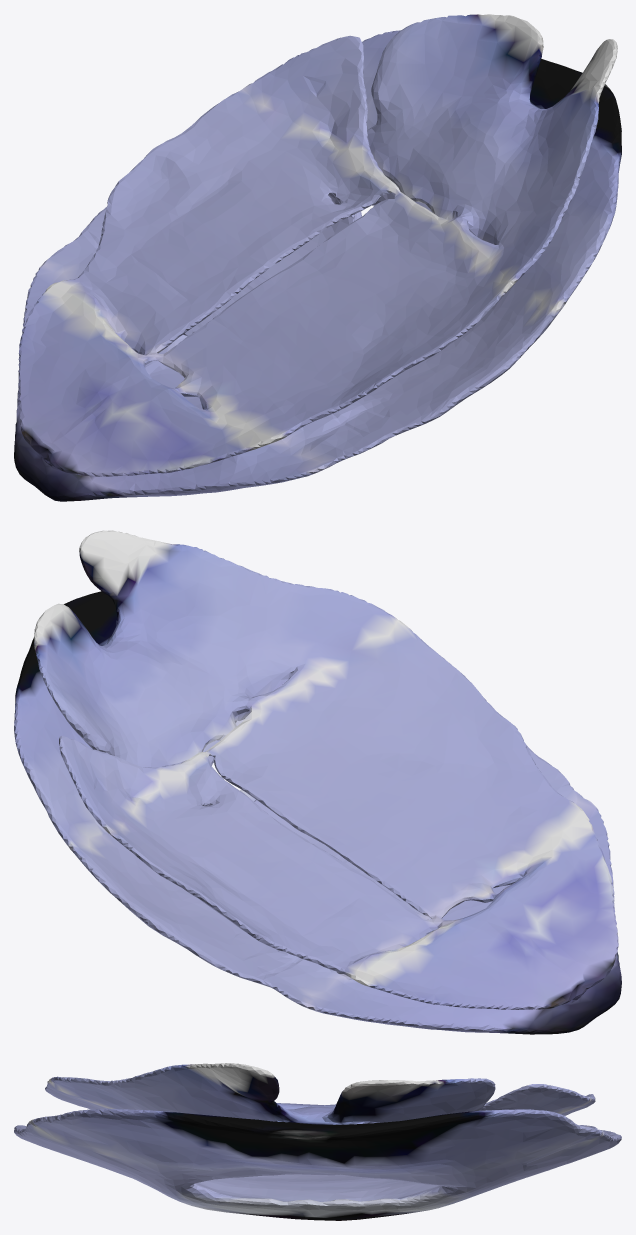
File: blue_crystal.glb
3 renders of one model, top to bottom at view 1: azimuth 30°, elevation 25°; view 2: azimuth 150°, elevation 25°; view 3: azimuth 270°, elevation 25°, orthographic. The views are drawn at different scales.
Visible parts, largest first — view 1: geometry_0; view 2: geometry_0; view 3: geometry_0.
Boxes of the visible parts, left/top/right/bottom form: geometry_0: left=14, top=14, right=621, bottom=501; geometry_0: left=14, top=530, right=621, bottom=1034; geometry_0: left=14, top=1063, right=621, bottom=1220.
Bounding box in the file's own units: 0.5938 × 0.3412 × 0.5756.
